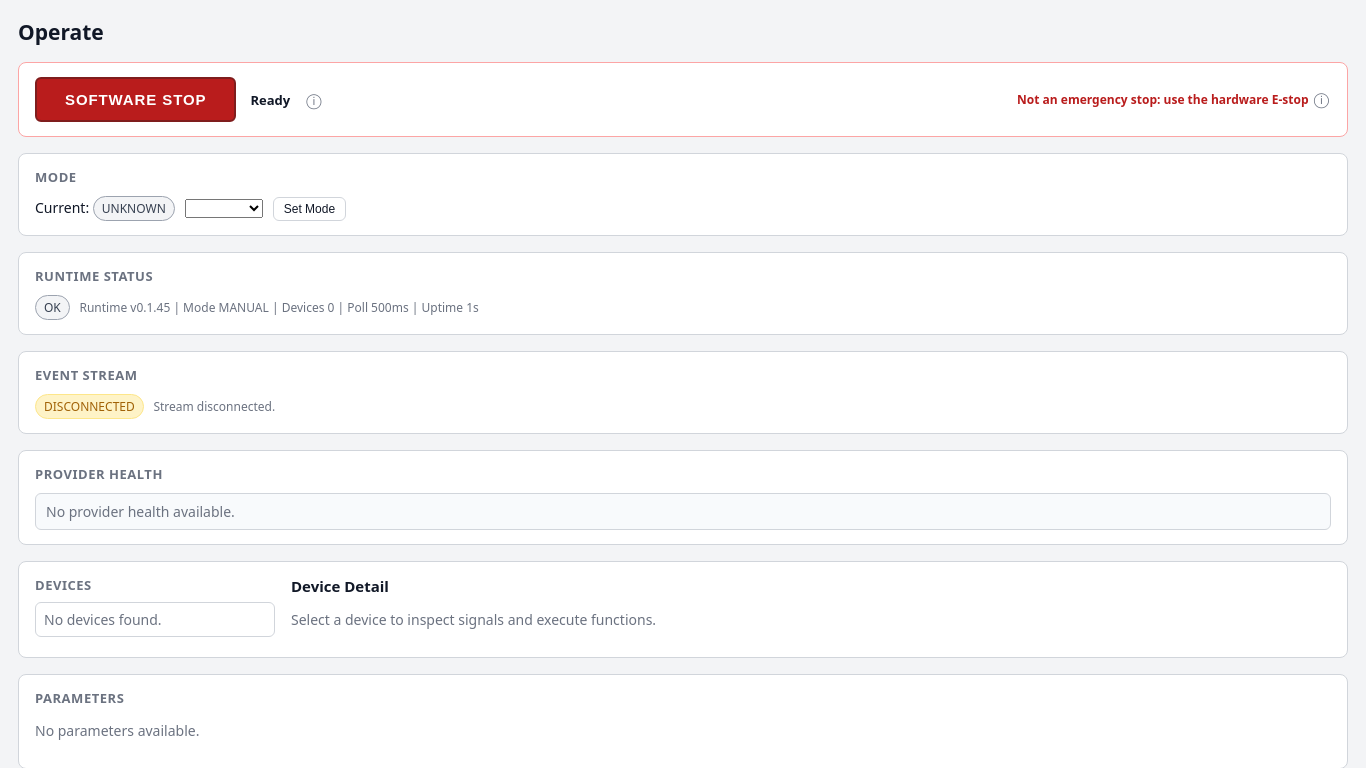
Test: Operate.svelte — the safe-state note (#346) › at runtime 0.1.45, where the count is what the active rung will not drive › under hooks with 0 undriven, shows its note and no count line
Expected: the text with test id "estop-state" does not show "Loading", [250,90,290,108]
What coordinates should you click on to do the following:
click the button named "About "
I would click on:
 (314, 100)
Its box is [304,92,324,107].
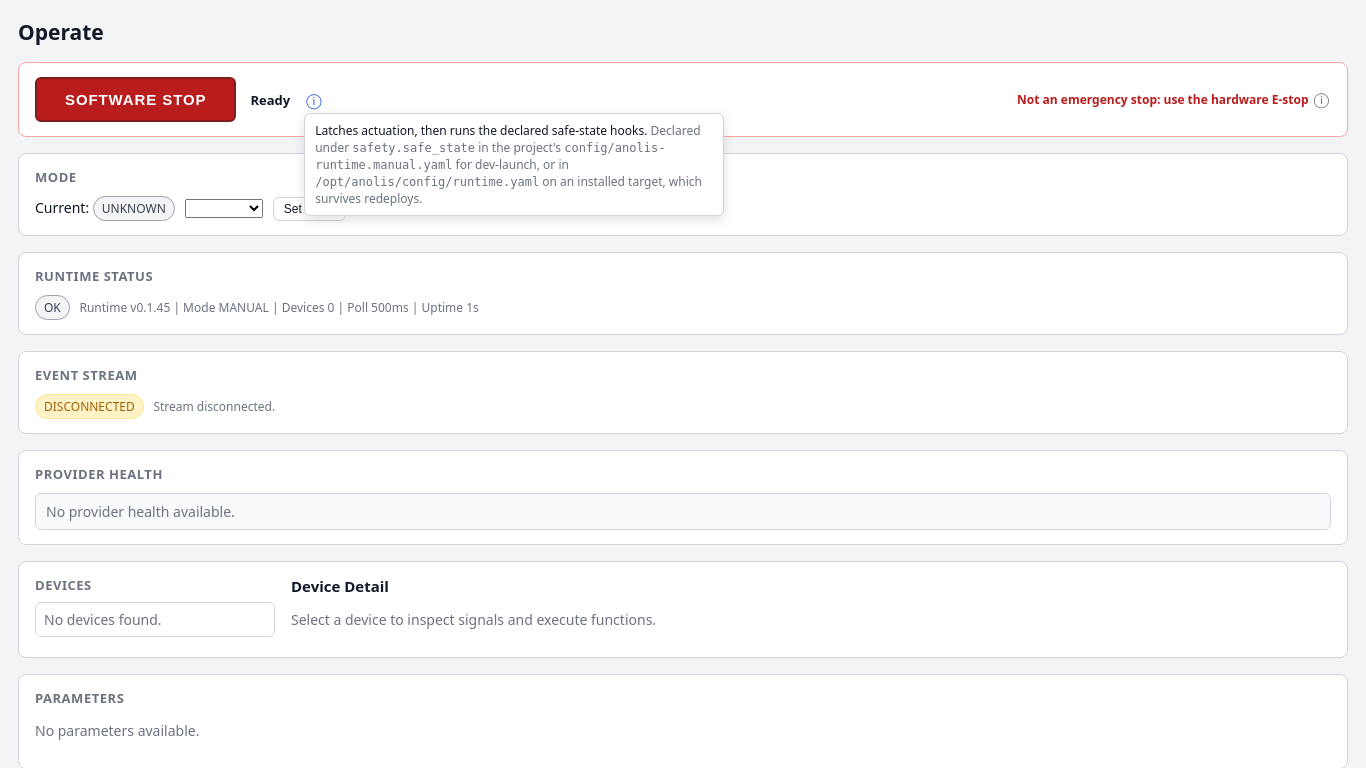
Expected: the text "Latches actuation, then runs the declared safe-state hooks" is shown, [315,122,647,139]
